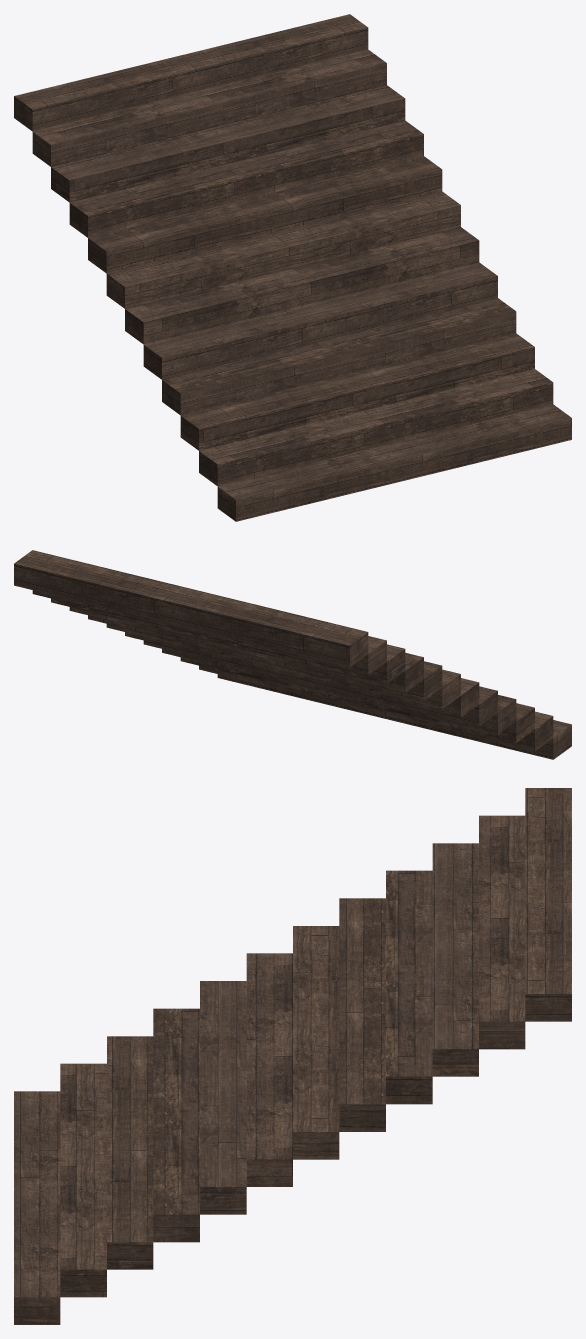
The model's file is Soupstairs008.glb.
The picture shows the model from 3 angles, top to bottom: view 1: azimuth 30°, elevation 25°; view 2: azimuth 150°, elevation 25°; view 3: azimuth 270°, elevation 25°; orthographic projection. The views are drawn at different scales.
Parts seen in each view (by area): view 1: Soupstairs008_high_1; view 2: Soupstairs008_high_1; view 3: Soupstairs008_high_1.
Part boxes in pixels (x1,y1,x2,y2): Soupstairs008_high_1: [14, 14, 571, 521]; Soupstairs008_high_1: [14, 550, 571, 759]; Soupstairs008_high_1: [14, 788, 571, 1324].
Size of the model in its own units: 2.25 by 1.69 by 2.58.
Materials: 1 (1 with a texture image).
